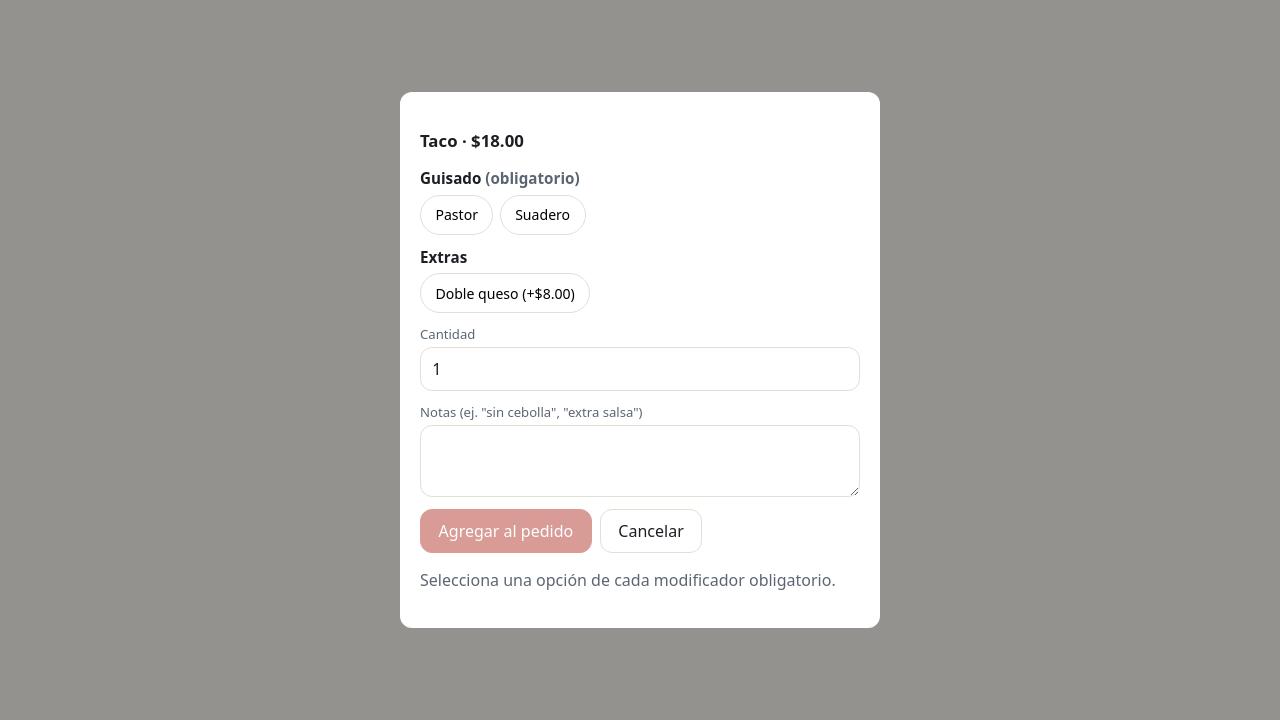
Scenario: ProductPickerModal › bloquea agregar hasta elegir el modificador obligatorio
The width and height of the screenshot is (1280, 720).
expect the button "Agregar al pedido" is disabled: met, box [420,509,592,553]
Click the button "Pastor" at {"x": 457, "y": 215}, box [420,195,493,235]
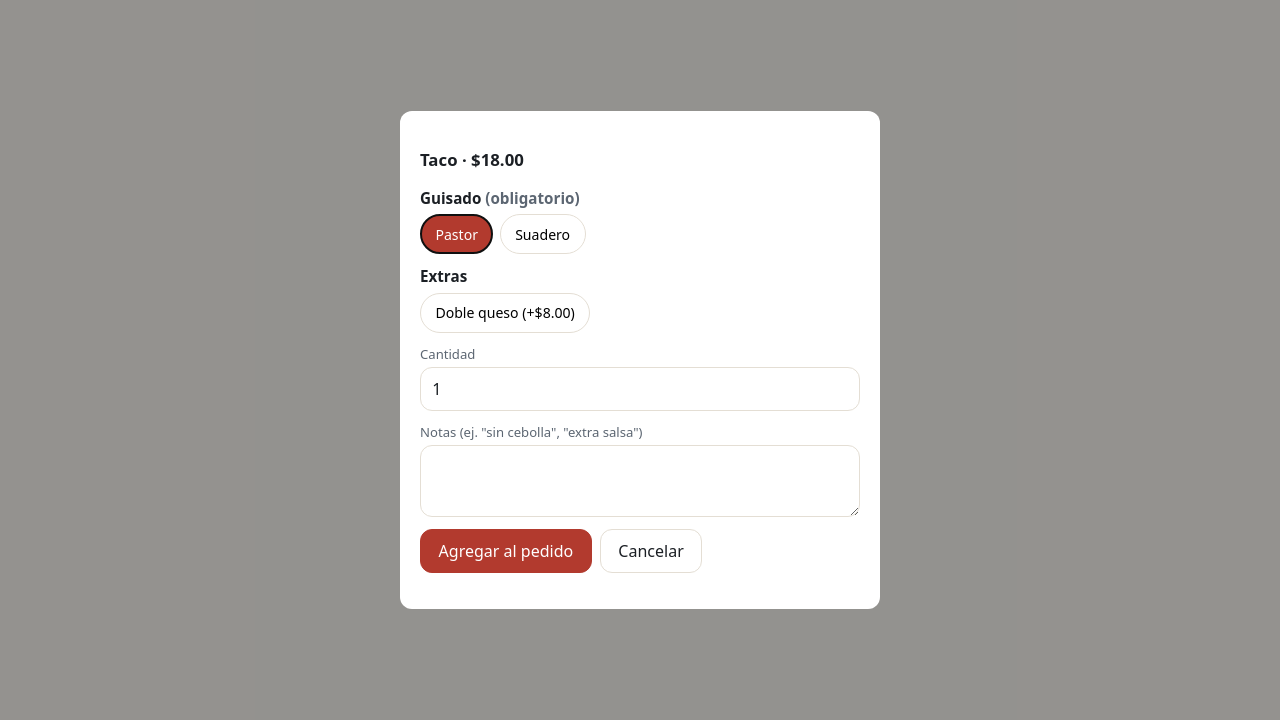
expect the button "Agregar al pedido" is enabled: met, box [420,529,592,573]
